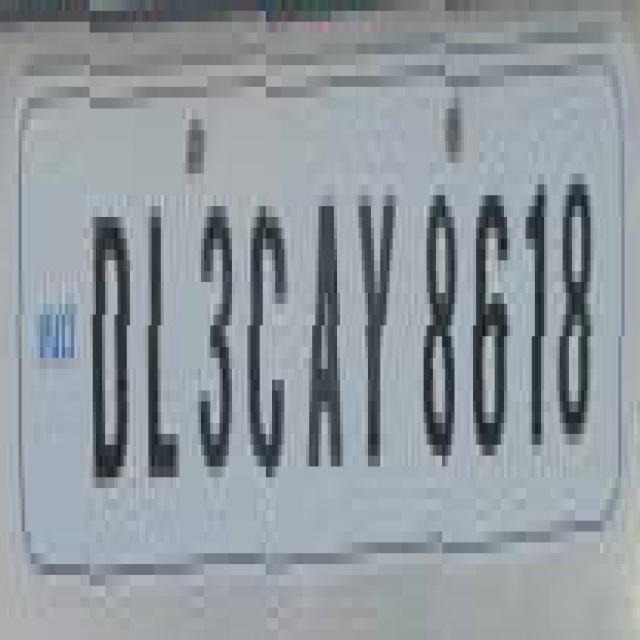license_plate: (21, 21, 640, 596)
